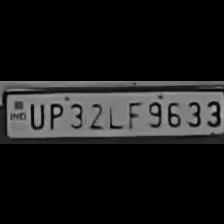2: (86, 97, 104, 128)
3: (64, 99, 84, 129), (202, 96, 222, 126), (184, 96, 202, 126)
6: (164, 98, 182, 127)
9: (144, 97, 162, 127)
F: (125, 98, 143, 128)
L: (104, 97, 124, 129)
P: (44, 99, 64, 129)
U: (26, 98, 44, 128)
